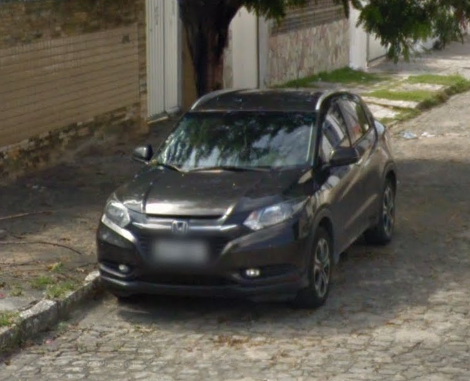car: (94, 65, 399, 327)
